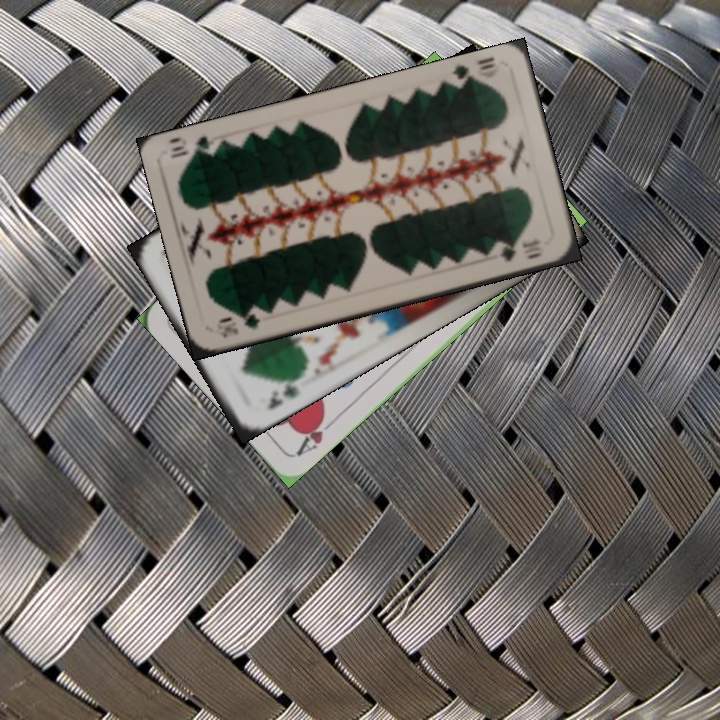G10: (447, 53, 498, 91), (212, 309, 262, 340)
GK: (263, 374, 302, 413)
HA: (291, 409, 340, 459)
